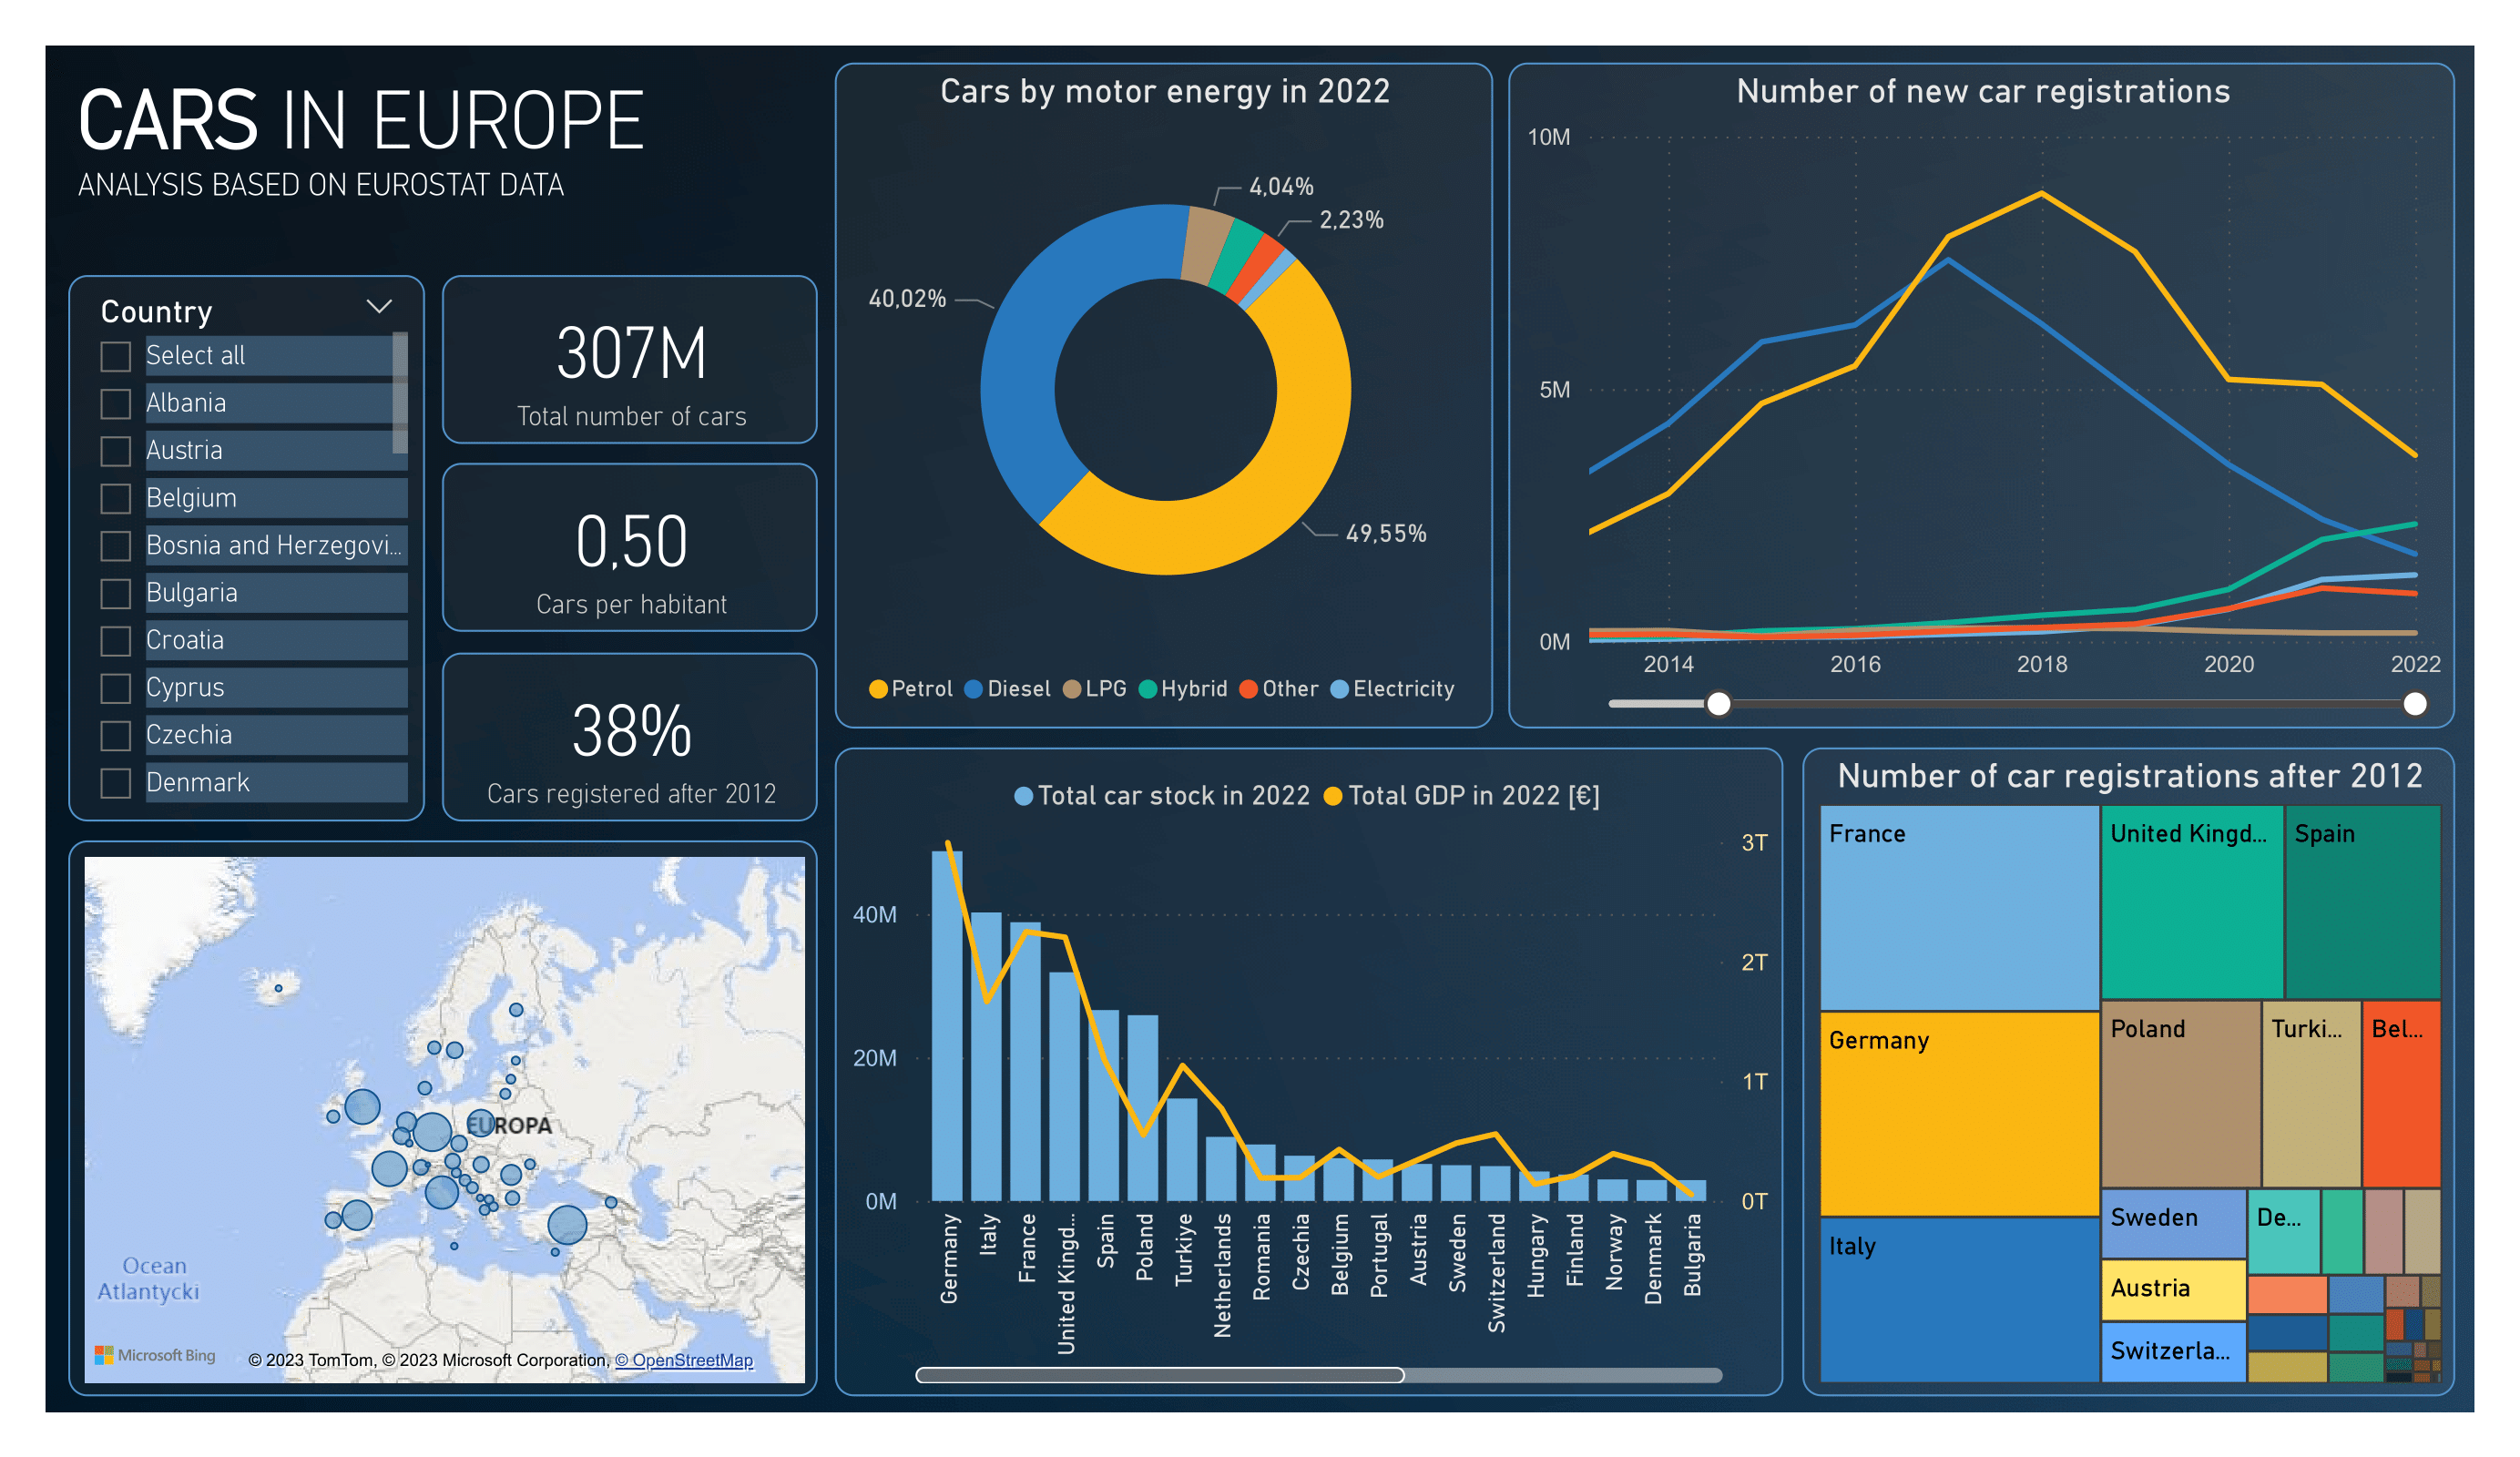

Layout of this report page (visuals, bound fields, positions):
{"tool":"powerbi","page":{"name":"Demographic and cars data","canvas":[1280,720],"ordinal":0},"visuals":[{"type":"map","fields":{"Size":["Sum(population.Population)"],"Category":["population.Country"]},"box":[11.6,418.6,395.3,293],"z":0},{"type":"lineStackedColumnComboChart","fields":{"Category":["gdp.Country"],"Y":["Sum(cars.Cars)"],"Y2":["Sum(gdp.TotalGDP)"]},"box":[416.3,369.8,500,341.9],"z":1000},{"type":"donutChart","title":"Cars by motor energy in 2022","fields":{"Y":["Sum(cars.Cars)"],"Category":["cars.Motor energy"]},"box":[416.3,9.3,346.5,351.2],"z":2000},{"type":"treemap","title":"Number of car registrations after 2012","fields":{"Values":["Sum(new_cars.New cars)"],"Group":["new_cars.Country"]},"box":[925.6,369.8,344.2,341.9],"z":3000},{"type":"lineChart","title":"Number of new car registrations","fields":{"Category":["new_cars.Year"],"Series":["new_cars.Motor energy"],"Y":["Sum(new_cars.New cars)"]},"box":[770.9,9.3,498.8,351.2],"z":4000},{"type":"textbox","box":[11.6,9.3,319.8,93],"z":5000},{"type":"card","fields":{"Values":["Sum(cars.Cars)"]},"box":[209.3,120.9,197.7,89.5],"z":6000},{"type":"slicer","fields":{"Values":["population.Country"]},"box":[11.6,120.9,188,288.4],"z":7000},{"type":"card","fields":{"Values":["cars.CarsPopulationRatio"]},"box":[209.3,219.8,197.7,89.5],"z":8000},{"type":"card","fields":{"Values":["new_cars.NewcarsCarsRatio"]},"box":[209.3,319.8,197.7,89.5],"z":9000}]}

Visuals, with their boxes in screenshot pixels (x1, y1, x2, y2):
map - Sum(population.Population) x population.Country: {"left": 67, "top": 840, "right": 818, "bottom": 1396}
lineStackedColumnComboChart - gdp.Country x Sum(cars.Cars): {"left": 835, "top": 747, "right": 1784, "bottom": 1396}
"Cars by motor energy in 2022" donutChart: {"left": 835, "top": 63, "right": 1493, "bottom": 729}
"Number of car registrations after 2012" treemap: {"left": 1802, "top": 747, "right": 2455, "bottom": 1396}
"Number of new car registrations" lineChart: {"left": 1508, "top": 63, "right": 2455, "bottom": 729}
textbox: {"left": 67, "top": 63, "right": 675, "bottom": 239}
card - Sum(cars.Cars): {"left": 443, "top": 275, "right": 818, "bottom": 444}
slicer - population.Country: {"left": 67, "top": 275, "right": 424, "bottom": 822}
card - cars.CarsPopulationRatio: {"left": 443, "top": 463, "right": 818, "bottom": 632}
card - new_cars.NewcarsCarsRatio: {"left": 443, "top": 652, "right": 818, "bottom": 822}
